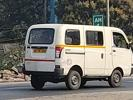Auto: (23, 21, 133, 93)
